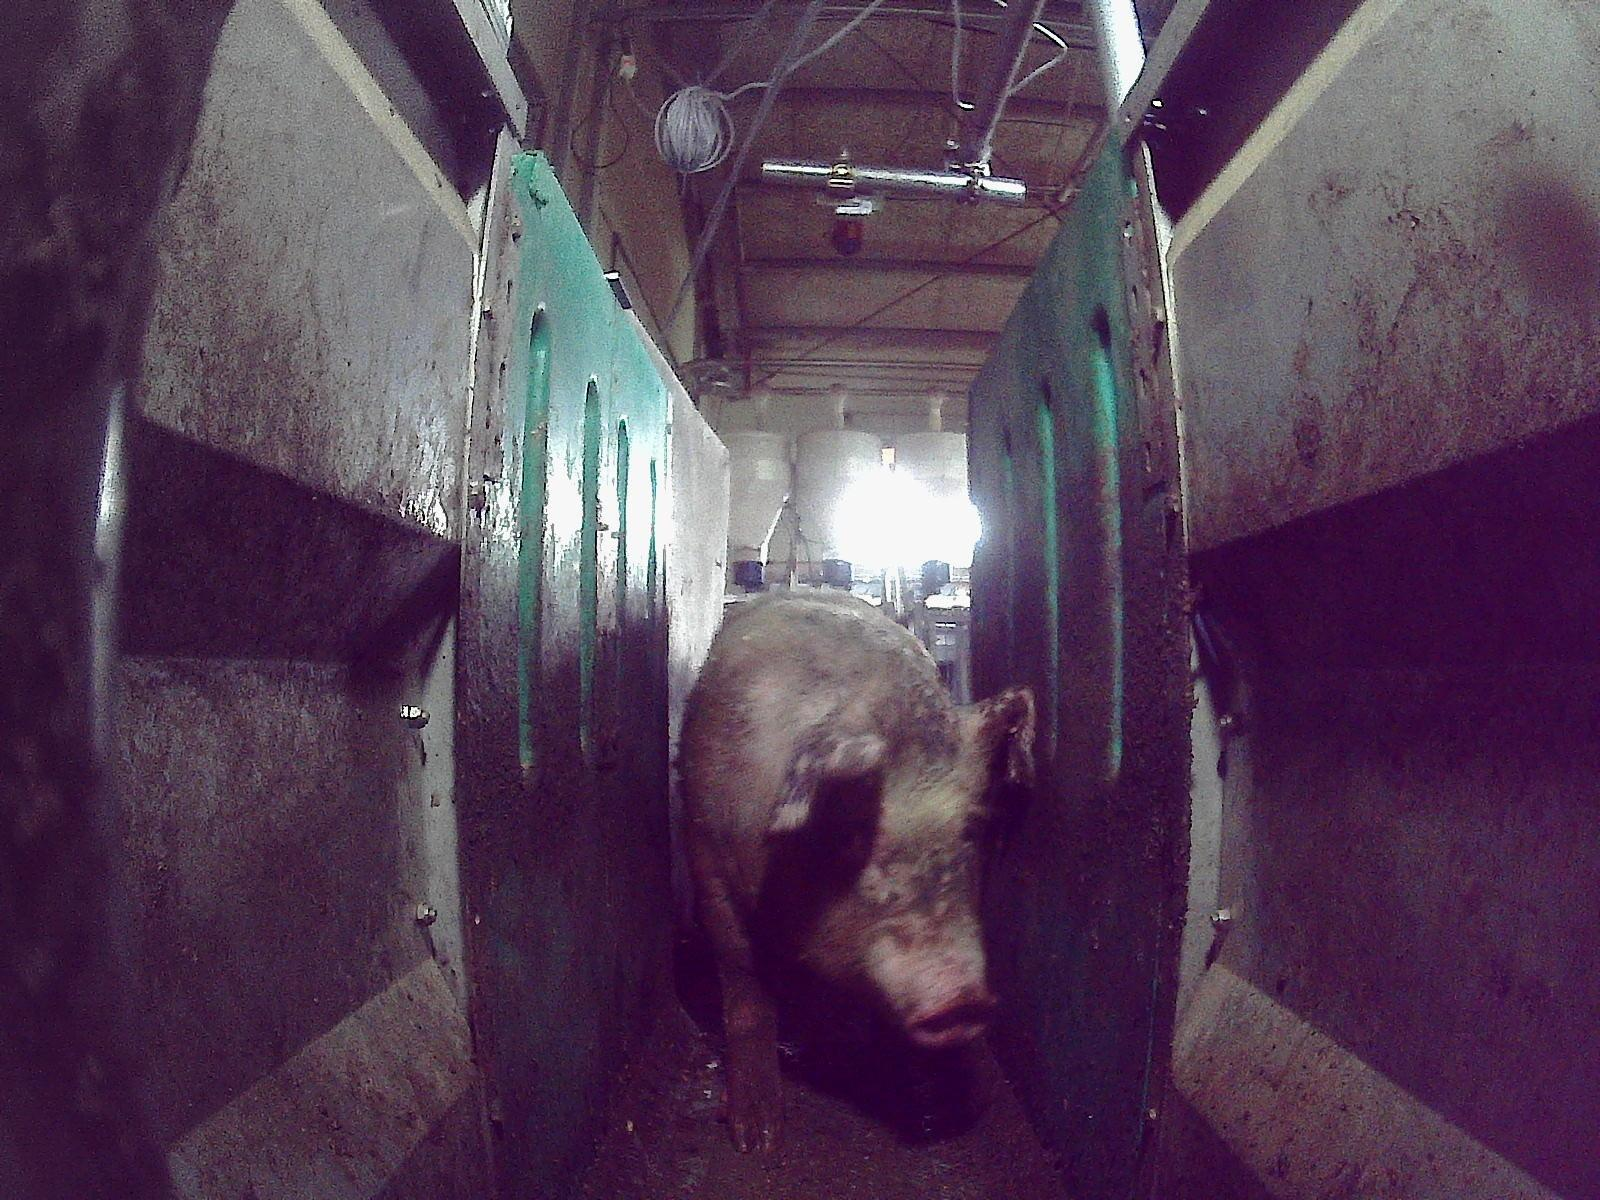Face: (779, 711, 996, 1050)
